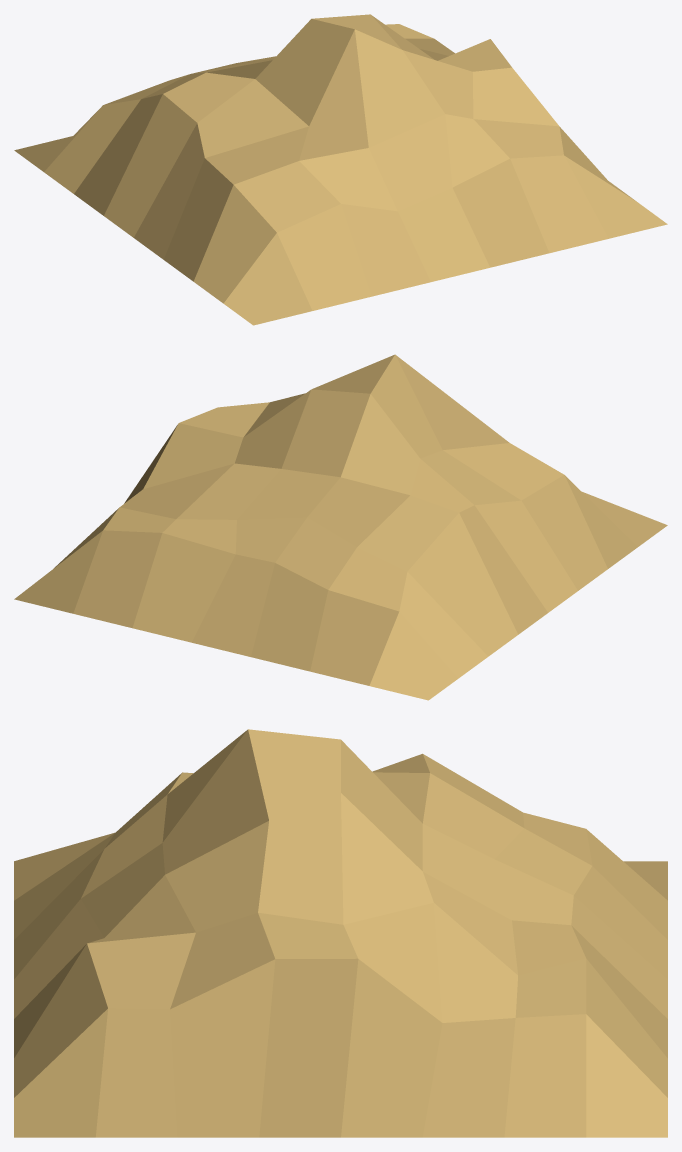
File: SandMount_1.fbx
3 renders of one model, top to bottom at view 1: azimuth 30°, elevation 25°; view 2: azimuth 150°, elevation 25°; view 3: azimuth 270°, elevation 25°, orthographic. The views are drawn at different scales.
Parts seen in each view (by area): view 1: Plane; view 2: Plane; view 3: Plane.
Boxes of the visible parts, bbox=[...] form: Plane: bbox=[14, 14, 667, 325]; Plane: bbox=[14, 354, 667, 700]; Plane: bbox=[14, 729, 667, 1137].
Bounding box in the file's own units: 200 × 86.62 × 200.
